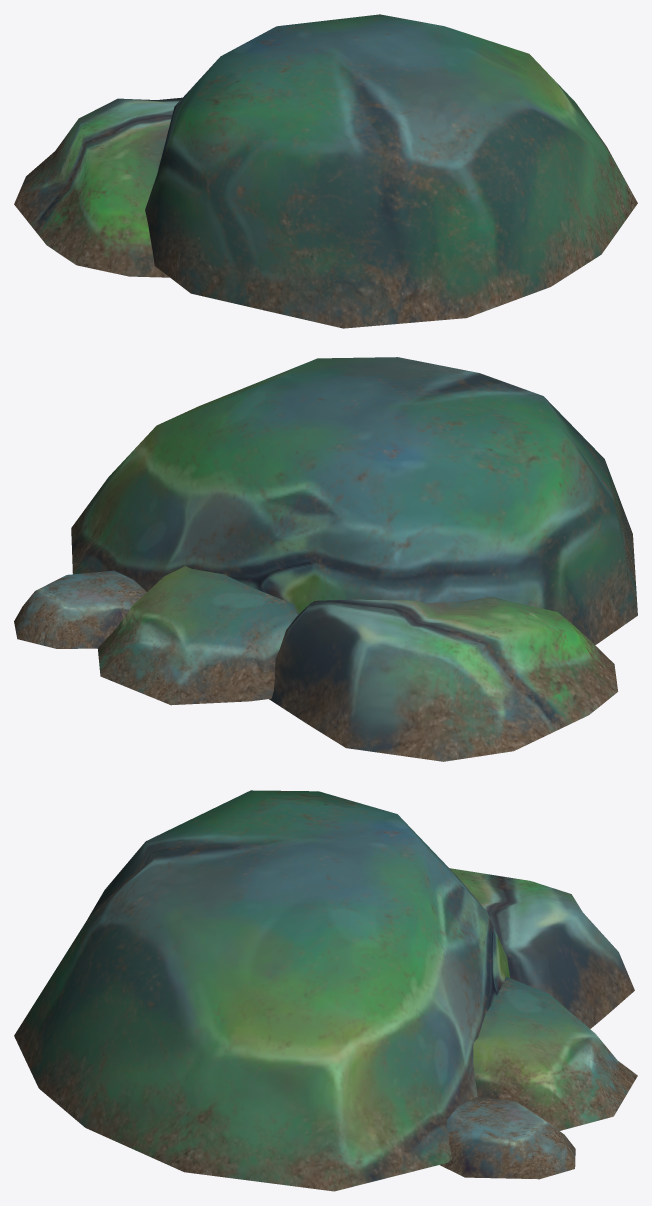
The model's file is ROK0110033.fbx.
The picture shows the model from 3 angles, top to bottom: view 1: azimuth 30°, elevation 25°; view 2: azimuth 150°, elevation 25°; view 3: azimuth 270°, elevation 25°; orthographic projection. The views are drawn at different scales.
Visible parts, largest first — view 1: smROK0110033; view 2: smROK0110033; view 3: smROK0110033.
Part boxes in pixels (x1=…): smROK0110033: x1=14, y1=14, x2=637, y2=328; smROK0110033: x1=14, y1=357, x2=637, y2=761; smROK0110033: x1=14, y1=790, x2=637, y2=1191.
Bounding box in the file's own units: 175 × 59.03 × 162.
1 material, 1 textured.
